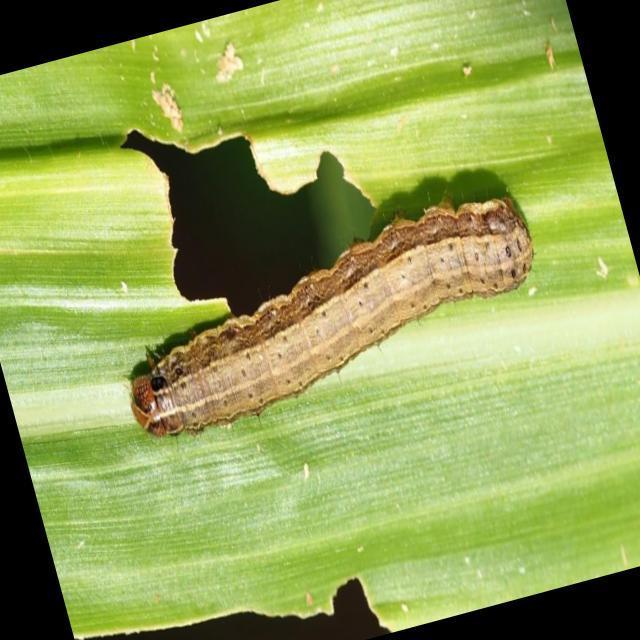pest: (147, 197, 519, 437)
